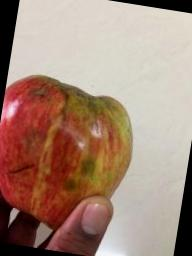Apple Overripe: (0, 68, 148, 236)
